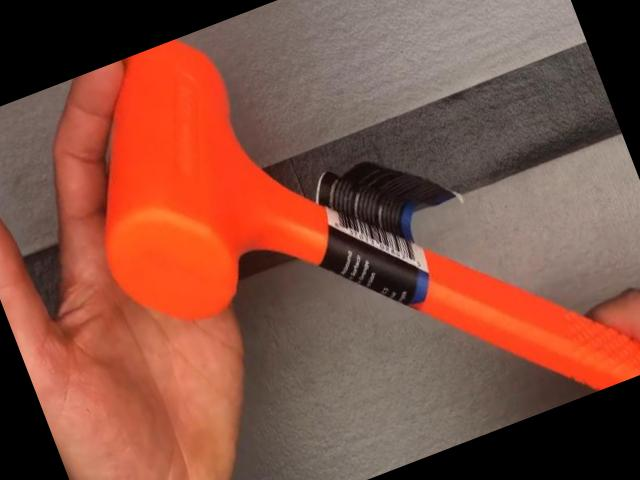hammer: (39, 0, 640, 480)
